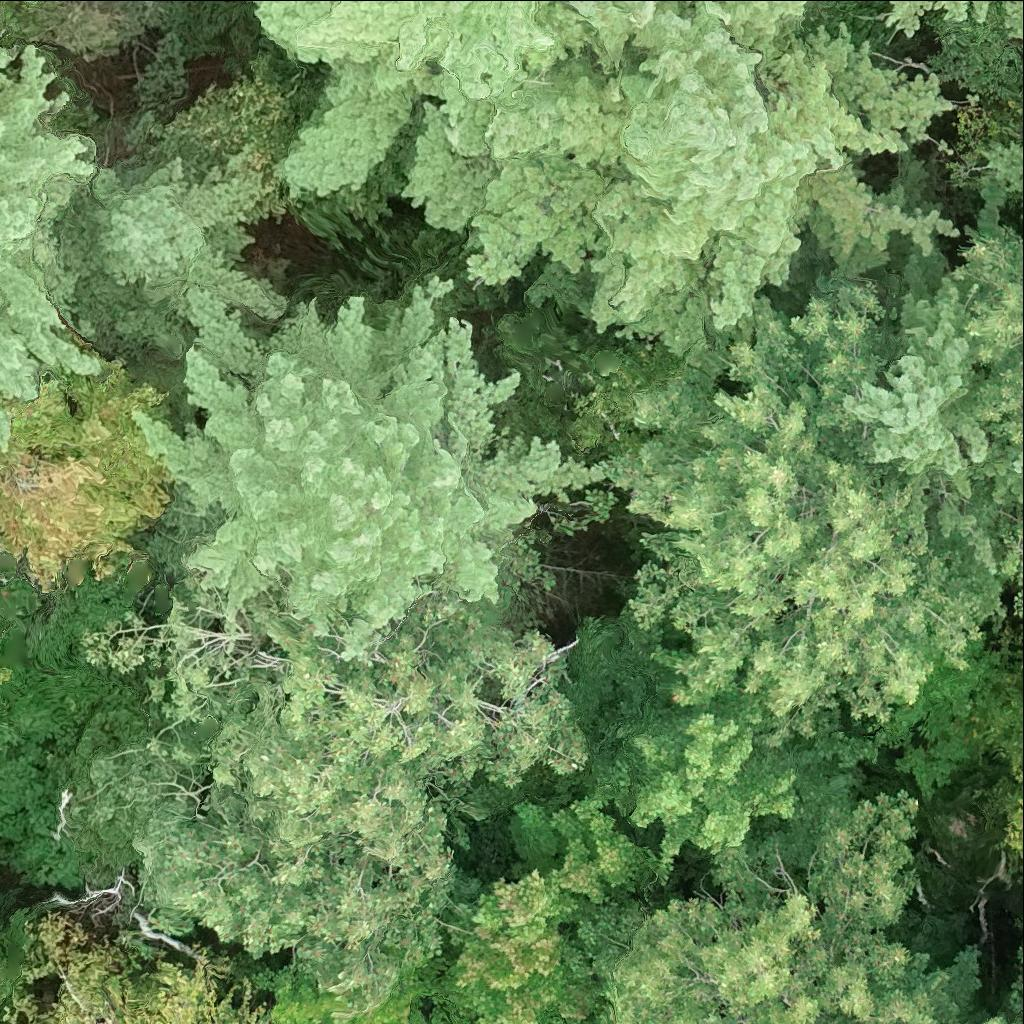crown: (73, 512, 586, 1017), (403, 0, 956, 360), (597, 274, 999, 746), (134, 278, 605, 663), (581, 791, 958, 1023), (256, 0, 668, 199), (847, 230, 1023, 570), (51, 143, 284, 370), (0, 308, 171, 594), (445, 802, 648, 1023), (596, 690, 799, 881), (0, 44, 104, 399), (0, 914, 272, 1023), (949, 232, 1023, 450), (266, 976, 449, 1023), (891, 0, 988, 26), (1004, 534, 1023, 613), (992, 151, 1023, 192), (692, 0, 736, 23), (539, 1003, 583, 1023), (1010, 795, 1023, 861), (0, 406, 13, 452), (1012, 0, 1023, 45), (0, 47, 16, 74), (0, 662, 12, 688), (985, 1016, 1005, 1023), (1016, 446, 1023, 465), (20, 0, 47, 3), (927, 1022, 939, 1023)
